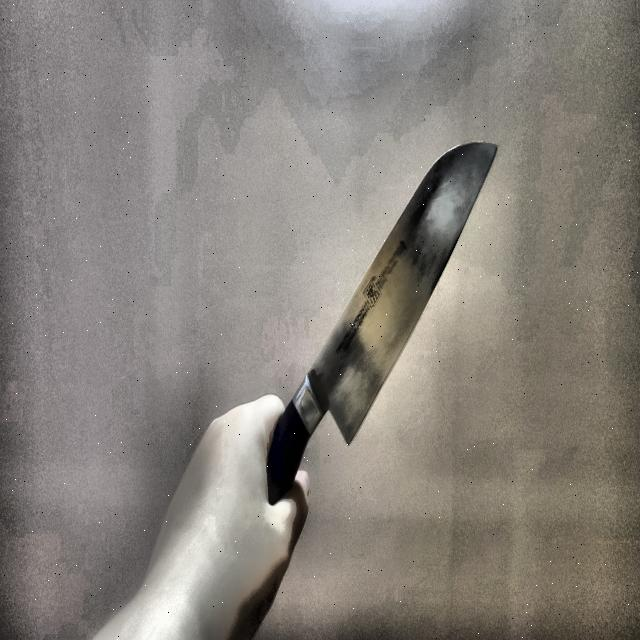knife: (267, 139, 498, 508)
